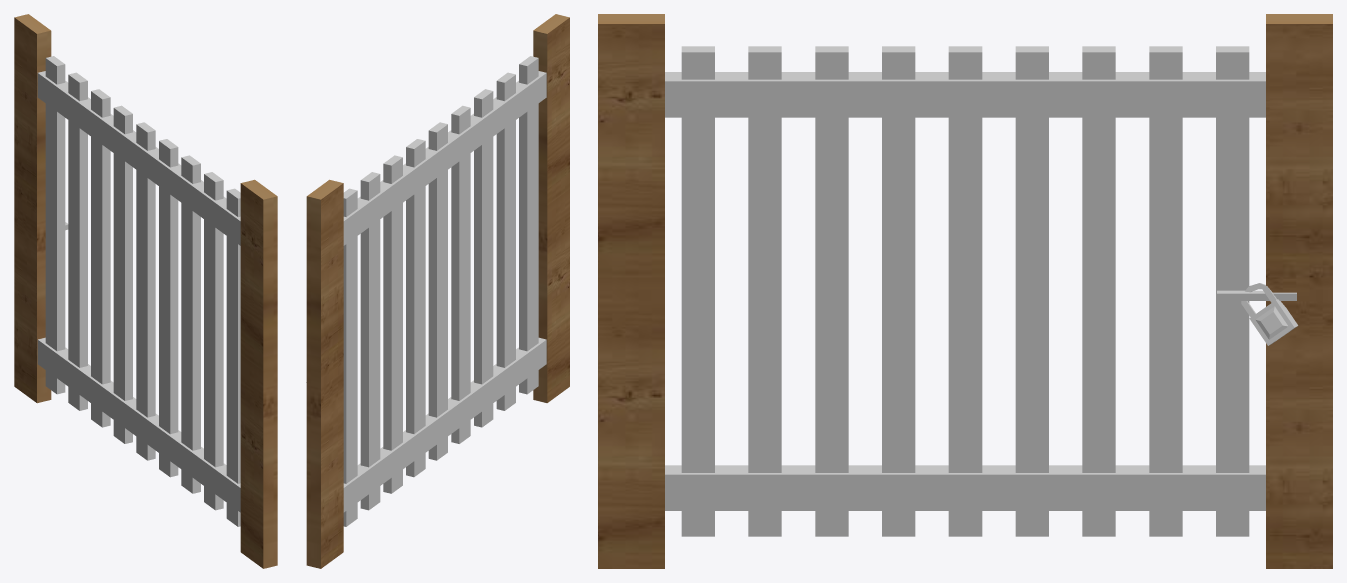
The model's file is MetalGate.fbx.
3 views of the same model, side by side, from view 1: azimuth 30°, elevation 25°; view 2: azimuth 150°, elevation 25°; view 3: azimuth 270°, elevation 25° (orthographic). The views are drawn at different scales.
Parts seen in each view (by area): view 1: VerticalSlats, Posts, HorizontalSlats; view 2: VerticalSlats, Posts, HorizontalSlats; view 3: VerticalSlats, Posts, HorizontalSlats, Cube.001.
Boxes of the visible parts, x1,y1,x2,y2 form: VerticalSlats: [45, 56, 240, 526]; Posts: [14, 14, 277, 568]; HorizontalSlats: [37, 71, 240, 512]; VerticalSlats: [343, 56, 538, 526]; Posts: [306, 14, 569, 568]; HorizontalSlats: [343, 71, 546, 512]; VerticalSlats: [681, 46, 1249, 536]; Posts: [598, 14, 1332, 568]; HorizontalSlats: [665, 72, 1265, 510]; Cube.001: [1249, 299, 1298, 345].
Bounding box in the file's own units: 1.42 × 18 × 22.
